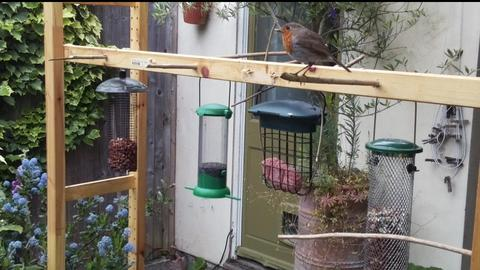robin: (274, 22, 352, 86)
